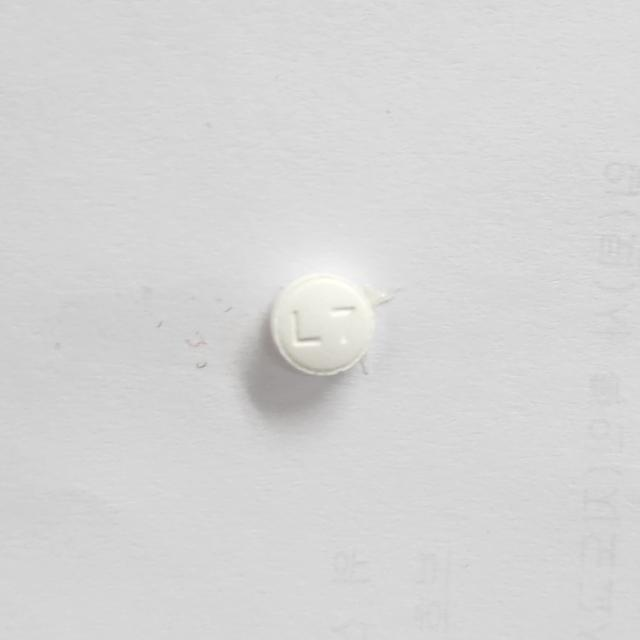pill: (266, 269, 380, 381)
